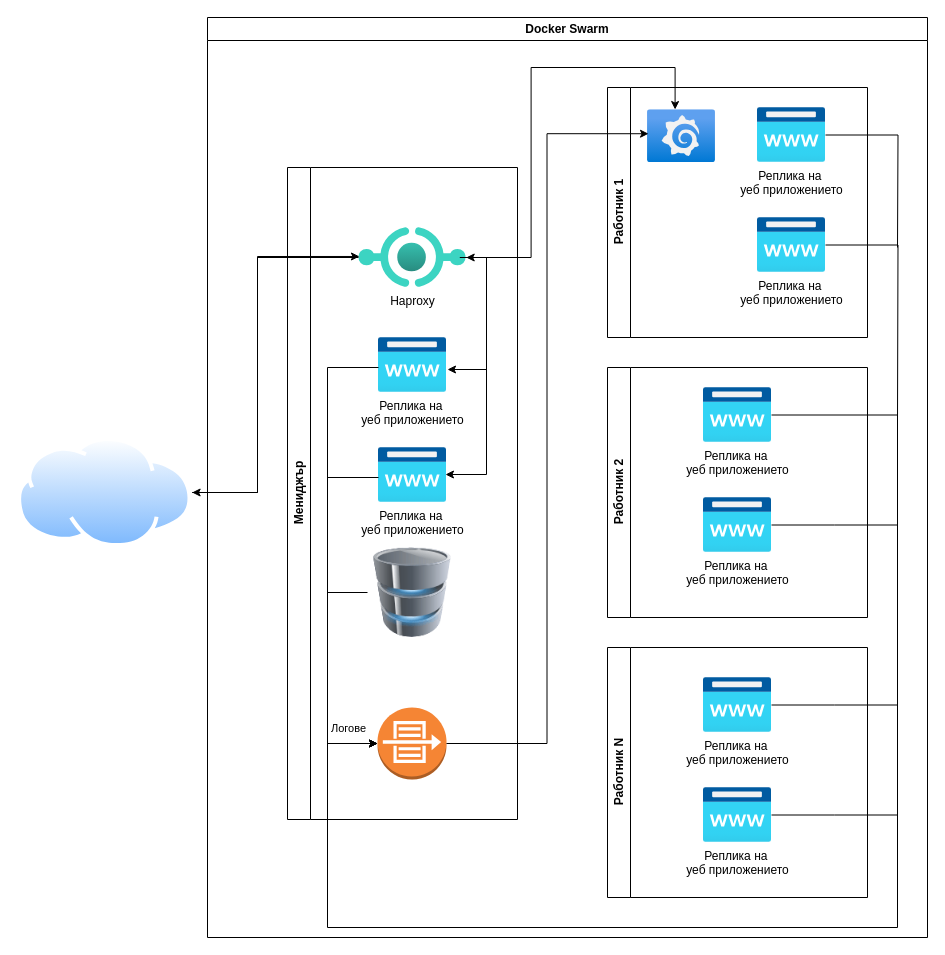
This 945x955 diagram has some shape labels left out. Here are the shapes that lost their labels. From the top down, the centre of each, then its label:
At point (681, 135): "Grafana".
At point (104, 492): "Интернет".
At point (412, 592): "Postgres".
At point (411, 743): "Loki".
